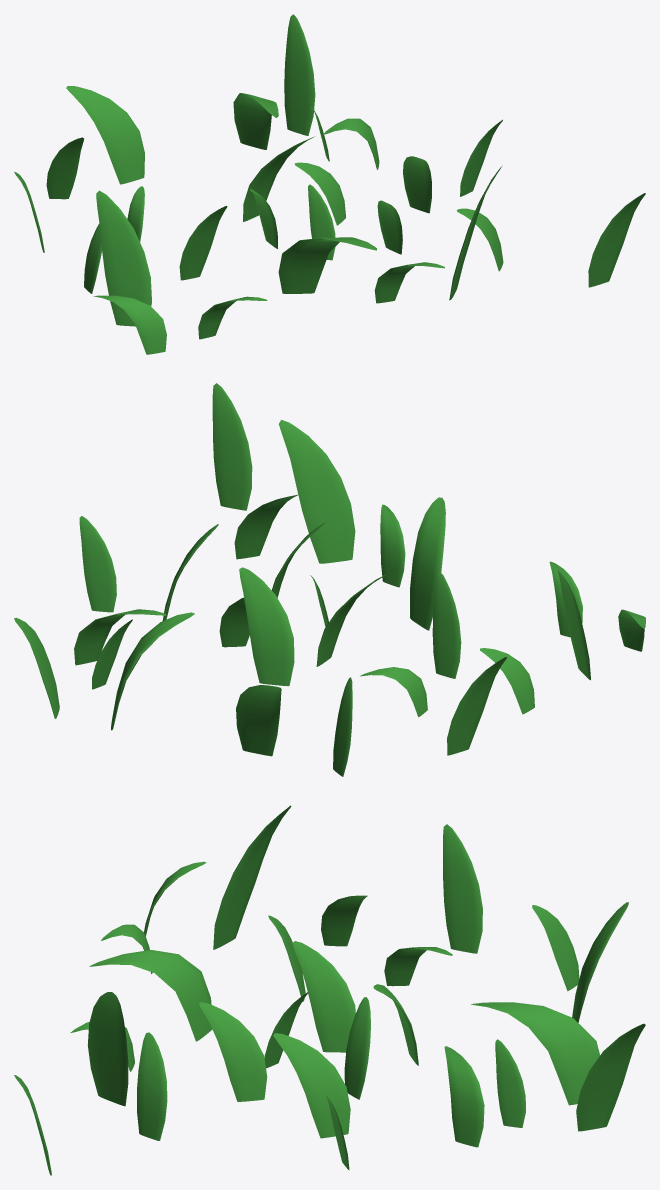
The model's file is grass clump 9.fbx.
The picture shows the model from 3 angles, top to bottom: view 1: azimuth 30°, elevation 25°; view 2: azimuth 150°, elevation 25°; view 3: azimuth 270°, elevation 25°; orthographic projection. The views are drawn at different scales.
Visible parts, largest first — view 1: Grass Clump 9; view 2: Grass Clump 9; view 3: Grass Clump 9.
Part boxes in pixels (left/top/right/bottom): Grass Clump 9: left=14, top=14, right=645, bottom=354; Grass Clump 9: left=14, top=383, right=645, bottom=776; Grass Clump 9: left=14, top=805, right=645, bottom=1175.
Size of the model in its own units: 227 by 53.7 by 224.
